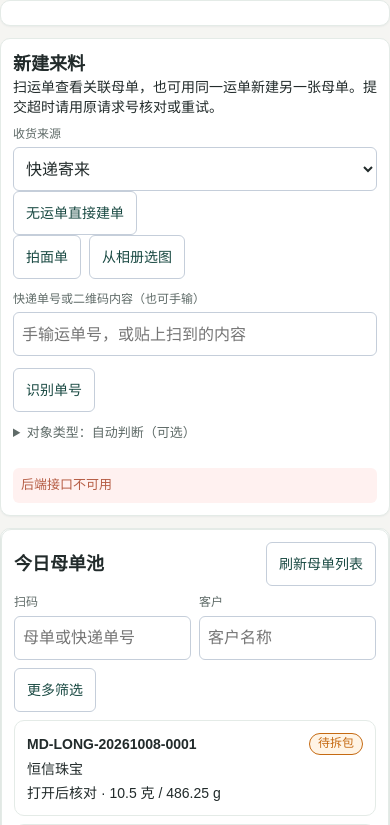
Test: 来料列表与详情 › 来料表格、手机卡片与详情保留小数及原单位，旧记录不猜成件
Click the button with class "inbound-card" that starts with "MD-LONG-20261008-0001" at (112,744), box [14,720,376,816]
(page scrolled)
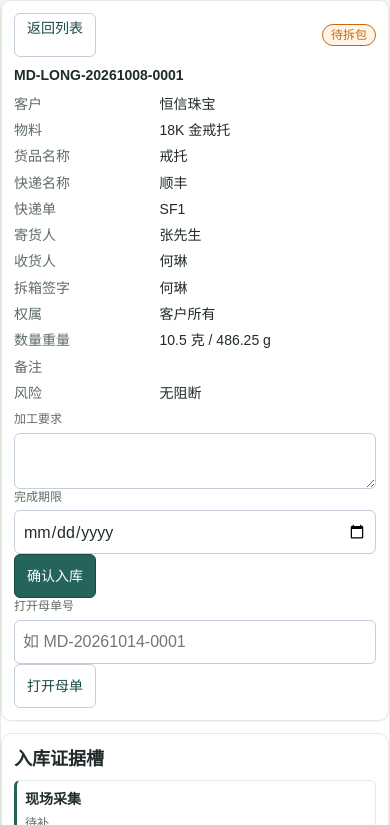
Now the element named "母单详情" shows "10.5 克", box [160,332,271,348]
